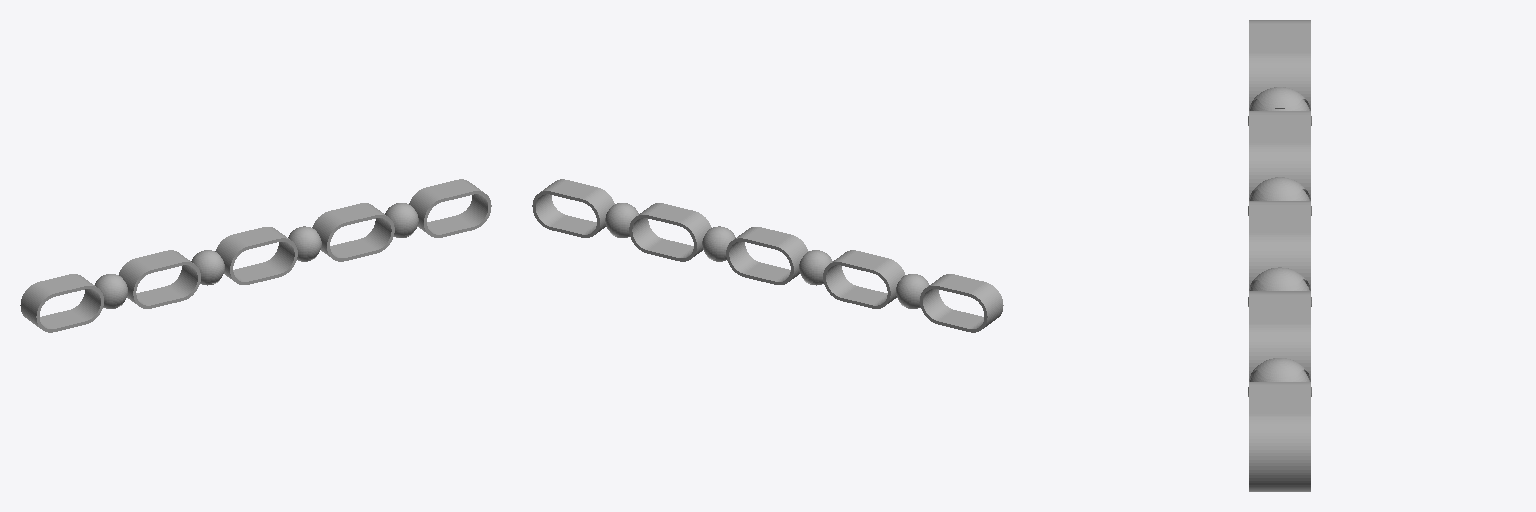
robot.urdf — yilansimu:
<?xml version="1.0" ?><robot name="yilansimu"><material name="silver"><color rgba="0.700 0.700 0.700 1.000"/></material><transmission name="Revolute 30_tran"><type>transmission_interface/SimpleTransmission</type><joint name="Revolute 30"><hardwareInterface>hardware_interface/EffortJointInterface</hardwareInterface></joint><actuator name="Revolute 30_actr"><hardwareInterface>hardware_interface/EffortJointInterface</hardwareInterface><mechanicalReduction>1</mechanicalReduction></actuator></transmission><transmission name="Revolute 31_tran"><type>transmission_interface/SimpleTransmission</type><joint name="Revolute 31"><hardwareInterface>hardware_interface/EffortJointInterface</hardwareInterface></joint><actuator name="Revolute 31_actr"><hardwareInterface>hardware_interface/EffortJointInterface</hardwareInterface><mechanicalReduction>1</mechanicalReduction></actuator></transmission><transmission name="Revolute 32_tran"><type>transmission_interface/SimpleTransmission</type><joint name="Revolute 32"><hardwareInterface>hardware_interface/EffortJointInterface</hardwareInterface></joint><actuator name="Revolute 32_actr"><hardwareInterface>hardware_interface/EffortJointInterface</hardwareInterface><mechanicalReduction>1</mechanicalReduction></actuator></transmission><transmission name="Revolute 33_tran"><type>transmission_interface/SimpleTransmission</type><joint name="Revolute 33"><hardwareInterface>hardware_interface/EffortJointInterface</hardwareInterface></joint><actuator name="Revolute 33_actr"><hardwareInterface>hardware_interface/EffortJointInterface</hardwareInterface><mechanicalReduction>1</mechanicalReduction></actuator></transmission><gazebo><plugin filename="libgazebo_ros_control.so" name="control"/></gazebo><gazebo reference="base_link"><material>Gazebo/Silver</material><mu1>0.2</mu1><mu2>0.2</mu2><selfCollide>true</selfCollide><gravity>true</gravity></gazebo><gazebo reference="vagon_2_1"><material>Gazebo/Silver</material><mu1>0.2</mu1><mu2>0.2</mu2><selfCollide>true</selfCollide></gazebo><gazebo reference="vagon_3_1"><material>Gazebo/Silver</material><mu1>0.2</mu1><mu2>0.2</mu2><selfCollide>true</selfCollide></gazebo><gazebo reference="vagon_4_1"><material>Gazebo/Silver</material><mu1>0.2</mu1><mu2>0.2</mu2><selfCollide>true</selfCollide></gazebo><gazebo reference="vagon_5_1"><material>Gazebo/Silver</material><mu1>0.2</mu1><mu2>0.2</mu2><selfCollide>true</selfCollide></gazebo><link name="base_link"><inertial><origin rpy="0 0 0" xyz="-0.010140486124849883 4.3371337475389595e-08 1.3412238498127023e-08"/><mass value="0.0045795100400537"/><inertia ixx="0.0" ixy="-0.0" ixz="-0.0" iyy="1e-06" iyz="-0.0" izz="1e-06"/></inertial><visual><origin rpy="0 0 0" xyz="0 0 0"/><geometry><mesh filename="package://yilansimu_description/meshes/base_link.stl" scale="0.001 0.001 0.001"/></geometry><material name="silver"/></visual><collision><origin rpy="0 0 0" xyz="0 0 0"/><geometry><mesh filename="package://yilansimu_description/meshes/base_link.stl" scale="0.001 0.001 0.001"/></geometry></collision></link><link name="vagon_2_1"><inertial><origin rpy="0 0 0" xyz="0.01853454749117604 2.2477804808574556e-08 1.0179807043573104e-08"/><mass value="0.008294307256815443"/><inertia ixx="1e-06" ixy="-0.0" ixz="-0.0" iyy="4e-06" iyz="-0.0" izz="4e-06"/></inertial><visual><origin rpy="0 0 0" xyz="-0.019292 -0.0 -0.0"/><geometry><mesh filename="package://yilansimu_description/meshes/vagon_2_1.stl" scale="0.001 0.001 0.001"/></geometry><material name="silver"/></visual><collision><origin rpy="0 0 0" xyz="-0.019292 -0.0 -0.0"/><geometry><mesh filename="package://yilansimu_description/meshes/vagon_2_1.stl" scale="0.001 0.001 0.001"/></geometry></collision></link><link name="vagon_3_1"><inertial><origin rpy="0 0 0" xyz="0.018534610223486 2.2477804796088586e-08 1.01798070413029e-08"/><mass value="0.008294307256815481"/><inertia ixx="1e-06" ixy="-0.0" ixz="-0.0" iyy="4e-06" iyz="-0.0" izz="4e-06"/></inertial><visual><origin rpy="0 0 0" xyz="-0.082299 -0.0 -0.0"/><geometry><mesh filename="package://yilansimu_description/meshes/vagon_3_1.stl" scale="0.001 0.001 0.001"/></geometry><material name="silver"/></visual><collision><origin rpy="0 0 0" xyz="-0.082299 -0.0 -0.0"/><geometry><mesh filename="package://yilansimu_description/meshes/vagon_3_1.stl" scale="0.001 0.001 0.001"/></geometry></collision></link><link name="vagon_4_1"><inertial><origin rpy="0 0 0" xyz="0.018534672955795556 2.2477804815385055e-08 1.0179807043573117e-08"/><mass value="0.008294307256815433"/><inertia ixx="1e-06" ixy="-0.0" ixz="-0.0" iyy="4e-06" iyz="-0.0" izz="4e-06"/></inertial><visual><origin rpy="0 0 0" xyz="-0.145306 -0.0 -0.0"/><geometry><mesh filename="package://yilansimu_description/meshes/vagon_4_1.stl" scale="0.001 0.001 0.001"/></geometry><material name="silver"/></visual><collision><origin rpy="0 0 0" xyz="-0.145306 -0.0 -0.0"/><geometry><mesh filename="package://yilansimu_description/meshes/vagon_4_1.stl" scale="0.001 0.001 0.001"/></geometry></collision></link><link name="vagon_5_1"><inertial><origin rpy="0 0 0" xyz="0.01642845287141645 -5.974834763900499e-18 -7.169801716680599e-18"/><mass value="0.007878620598601473"/><inertia ixx="1e-06" ixy="-0.0" ixz="0.0" iyy="3e-06" iyz="-0.0" izz="3e-06"/></inertial><visual><origin rpy="0 0 0" xyz="-0.208313 -0.0 -0.0"/><geometry><mesh filename="package://yilansimu_description/meshes/vagon_5_1.stl" scale="0.001 0.001 0.001"/></geometry><material name="silver"/></visual><collision><origin rpy="0 0 0" xyz="-0.208313 -0.0 -0.0"/><geometry><mesh filename="package://yilansimu_description/meshes/vagon_5_1.stl" scale="0.001 0.001 0.001"/></geometry></collision></link><joint name="Revolute 30" type="revolute"><origin rpy="0 0 0" xyz="0.019292 0.0 0.0"/><parent link="base_link"/><child link="vagon_2_1"/><axis xyz="0.0 0.0 1.0"/><limit effort="100" lower="-1.396263" upper="1.396263" velocity="100"/></joint><joint name="Revolute 31" type="revolute"><origin rpy="0 0 0" xyz="0.063007 0.0 0.0"/><parent link="vagon_2_1"/><child link="vagon_3_1"/><axis xyz="0.0 0.0 1.0"/><limit effort="100" lower="-1.396263" upper="1.396263" velocity="100"/></joint><joint name="Revolute 32" type="revolute"><origin rpy="0 0 0" xyz="0.063007 0.0 0.0"/><parent link="vagon_3_1"/><child link="vagon_4_1"/><axis xyz="0.0 0.0 1.0"/><limit effort="100" lower="-1.396263" upper="1.396263" velocity="100"/></joint><joint name="Revolute 33" type="revolute"><origin rpy="0 0 0" xyz="0.063007 0.0 0.0"/><parent link="vagon_4_1"/><child link="vagon_5_1"/><axis xyz="0.0 0.0 1.0"/><limit effort="100" lower="-1.396263" upper="1.396263" velocity="100"/></joint></robot>

--- Facts derived from the render (not from the file) ---
The picture shows the robot from 3 angles, left to right: view 1: azimuth 30°, elevation 25°; view 2: azimuth 150°, elevation 25°; view 3: azimuth 270°, elevation 25°; orthographic projection.
Robot: yilansimu — 5 links, 4 joints (4 revolute); root link base_link; default pose: every joint at zero.
Links seen in each view (by area): view 1: vagon_2_1, vagon_4_1, vagon_3_1, base_link, vagon_5_1; view 2: vagon_2_1, vagon_4_1, vagon_3_1, base_link, vagon_5_1; view 3: vagon_5_1, vagon_3_1, vagon_4_1, vagon_2_1, base_link.
Boxes of the visible links, x1,y1,x2,y2 form: vagon_2_1: (113, 250, 219, 308); vagon_4_1: (307, 203, 413, 261); vagon_3_1: (210, 226, 316, 284); base_link: (20, 274, 123, 332); vagon_5_1: (404, 179, 491, 237); vagon_2_1: (804, 250, 910, 308); vagon_4_1: (610, 203, 716, 261); vagon_3_1: (707, 226, 813, 284); base_link: (900, 274, 1003, 332); vagon_5_1: (532, 179, 619, 237); vagon_5_1: (1248, 370, 1311, 491); vagon_3_1: (1248, 189, 1311, 290); vagon_4_1: (1248, 280, 1311, 381); vagon_2_1: (1248, 99, 1311, 200); base_link: (1249, 20, 1310, 110).
Bounding box of the posed robot: 0.296 × 0.0188 × 0.024 m (x, y, z).
5 mesh visuals loaded from 5 distinct referenced files (5 binary STL).
